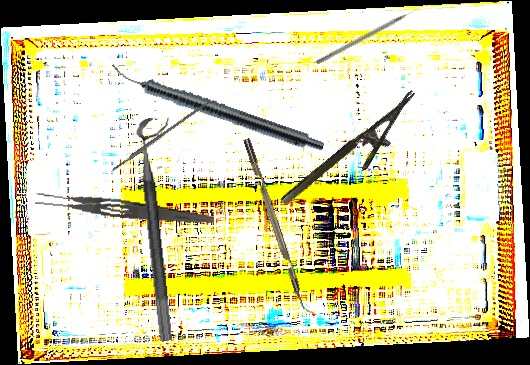Chopper: (243, 135, 317, 320)
Dressing Forceps: (34, 188, 216, 228)
Fixation Ring: (134, 116, 193, 342)
Handpiece: (106, 61, 328, 156)
Hook Surgical: (315, 4, 424, 66)
Needle Holder: (278, 89, 433, 224)
Scalpel Handle: (110, 99, 212, 172)
